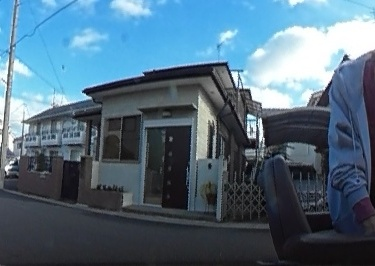person: (328, 12, 375, 240)
